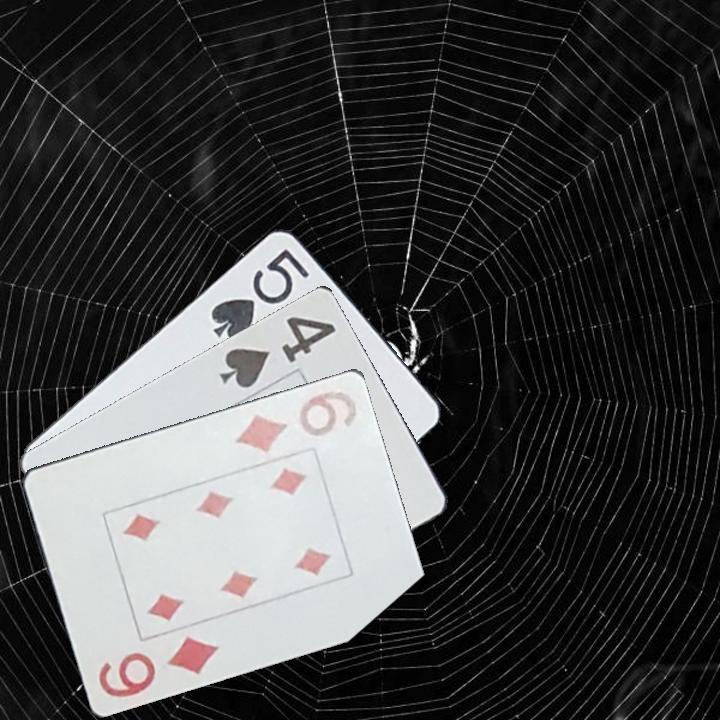4s: (212, 312, 339, 391)
5s: (207, 244, 313, 344)
6d: (232, 386, 362, 455), (95, 632, 222, 701)
